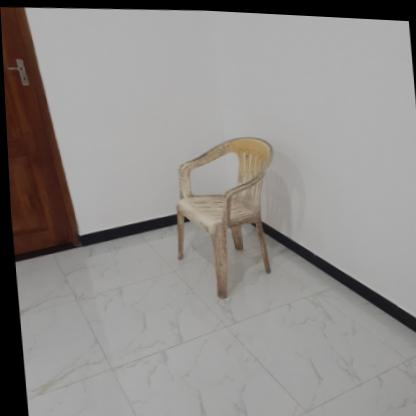Ceramic floor: (12, 221, 416, 416)
Chair: (165, 129, 283, 301)
